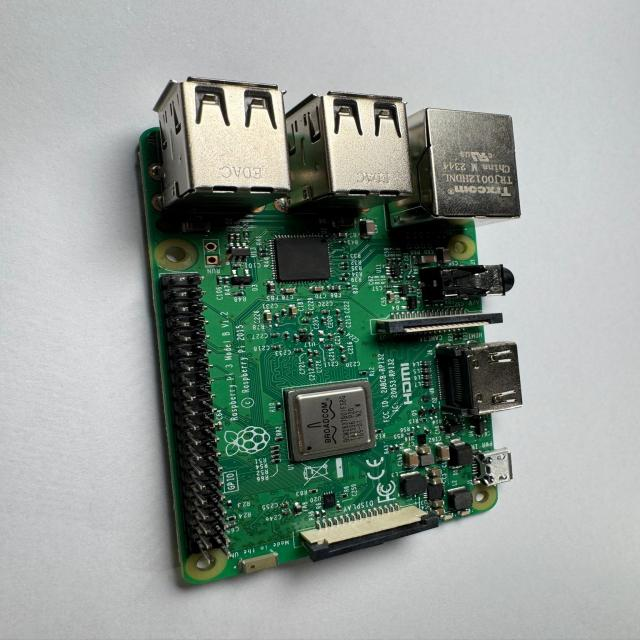CPU: (283, 381, 380, 465)
Ethernet: (389, 106, 522, 234)
GPIO: (157, 271, 235, 555)
HDMI: (438, 334, 525, 422)
RAM-3: (272, 235, 331, 286)
Raspberry: (122, 70, 525, 589)
